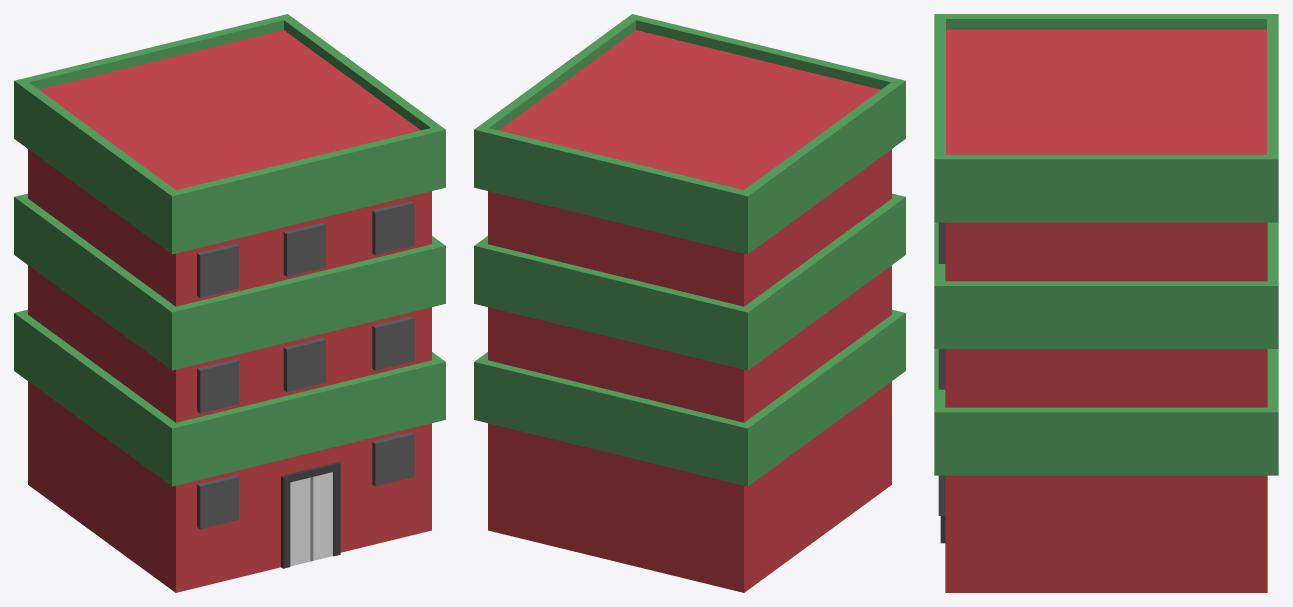
File: Building_4.FBX
The picture shows the model from 3 angles, left to right: view 1: azimuth 30°, elevation 25°; view 2: azimuth 150°, elevation 25°; view 3: azimuth 270°, elevation 25°; orthographic projection. The views are drawn at different scales.
Parts seen in each view (by area): view 1: Building 04; view 2: Building 04; view 3: Building 04.
Boxes of the visible parts, left/top/right/bottom form: Building 04: left=14, top=14, right=445, bottom=592; Building 04: left=474, top=14, right=905, bottom=592; Building 04: left=934, top=14, right=1278, bottom=592.
Bounding box in the file's own units: 5.45 × 7.65 × 5.45.
1 material, 1 textured.
